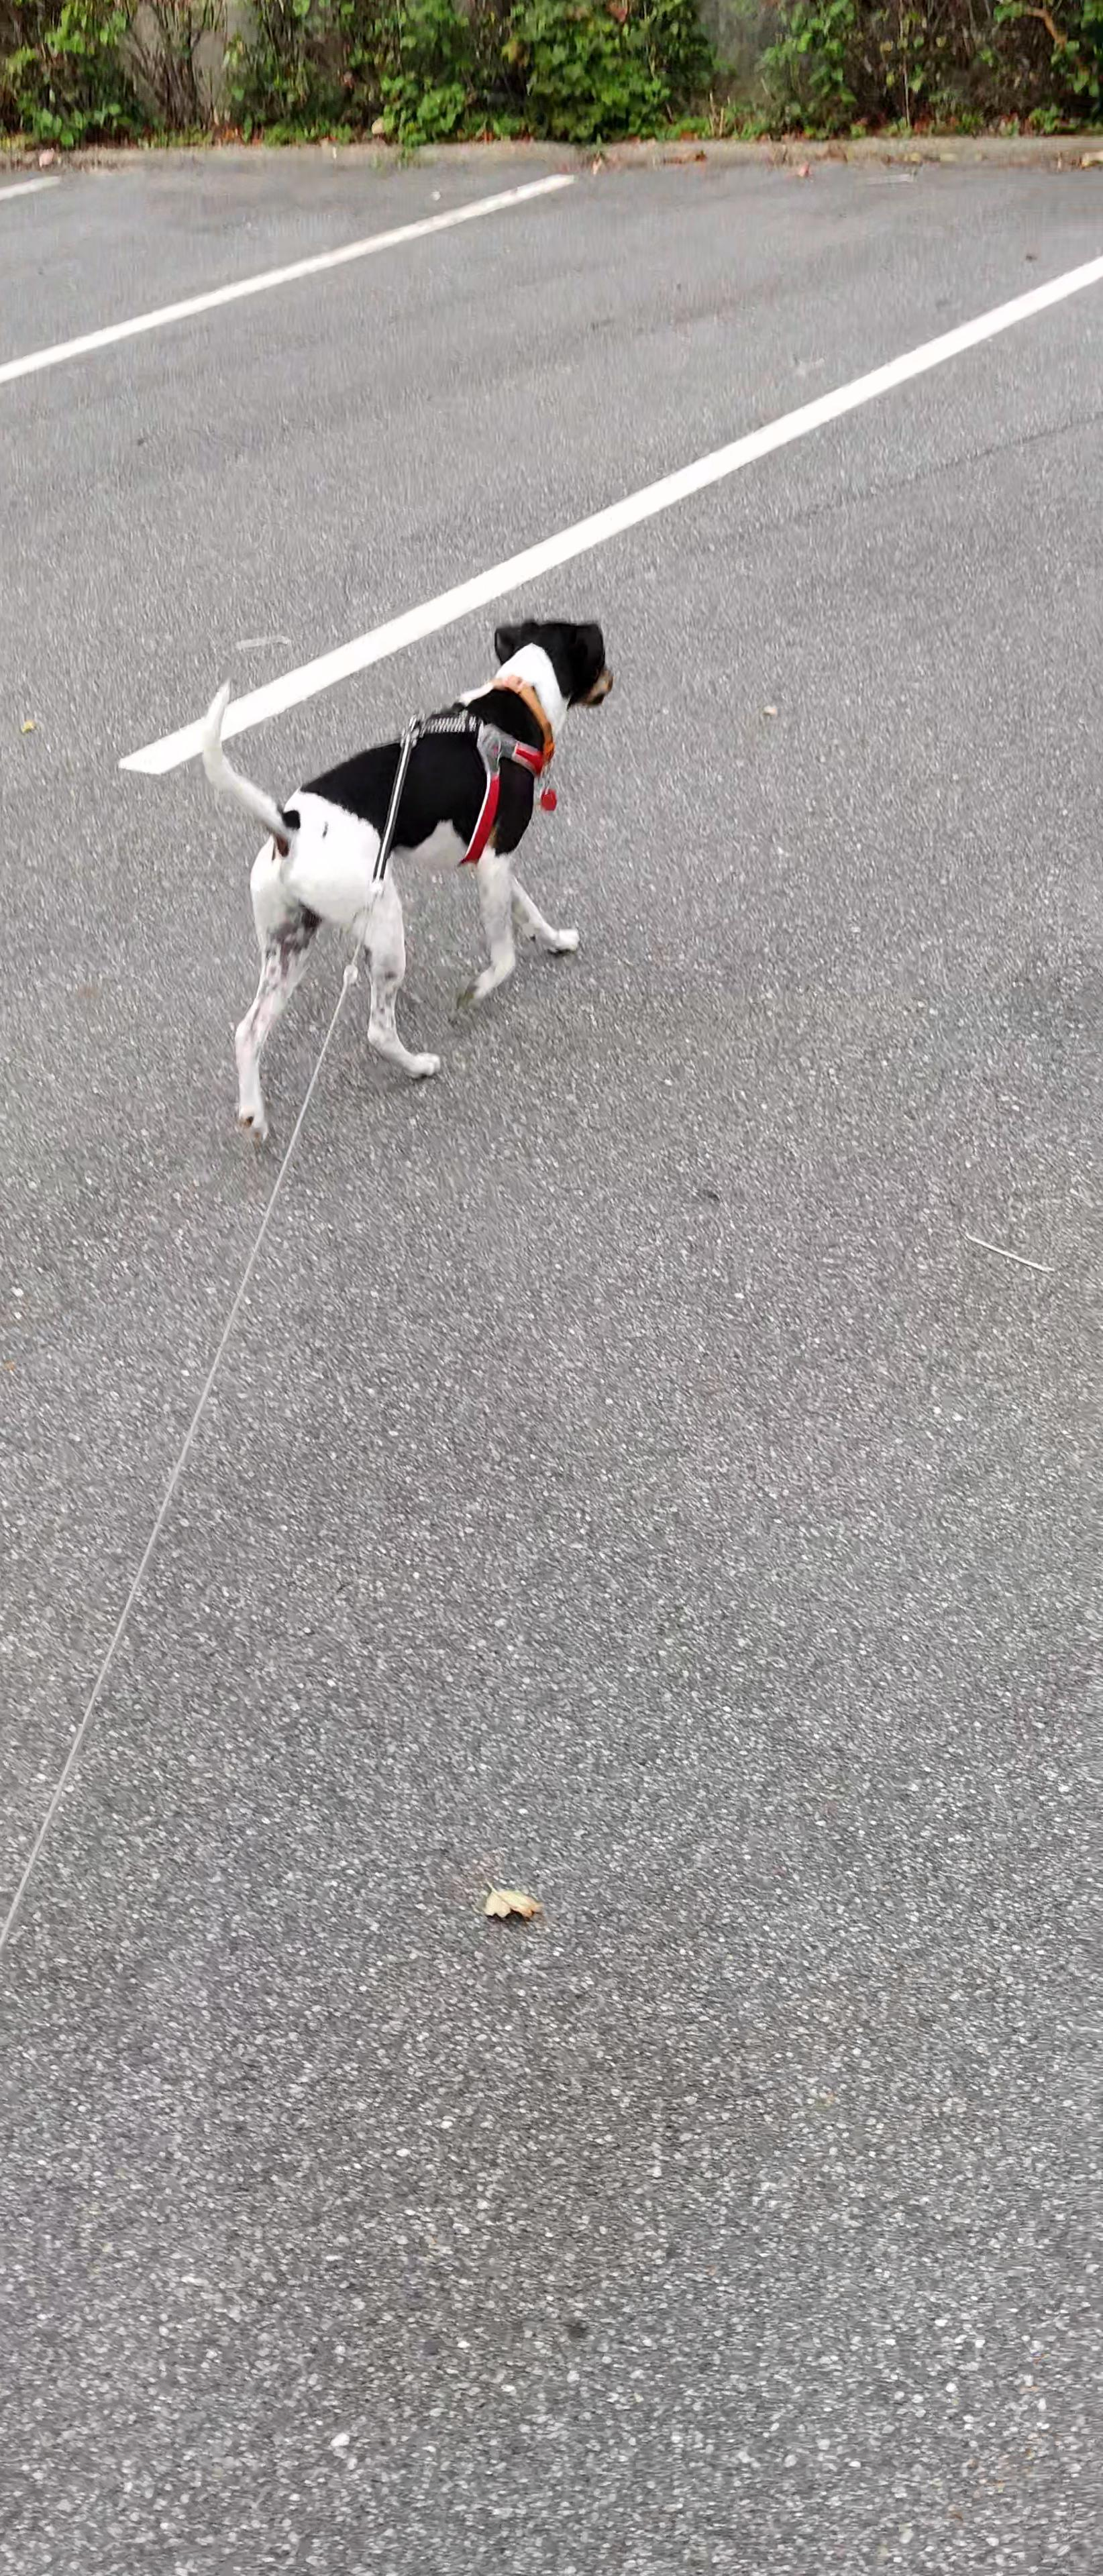Dog: (197, 619, 621, 1148)
